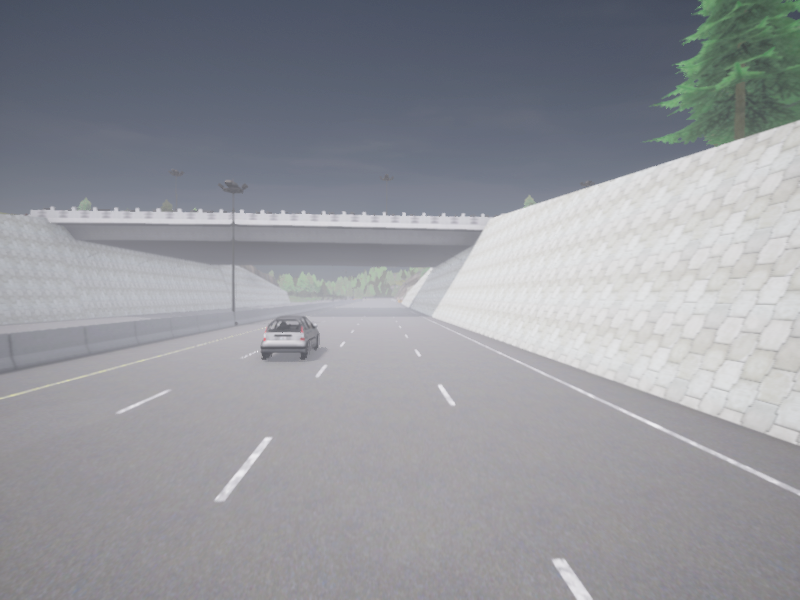vehicle: (261, 316, 319, 358)
